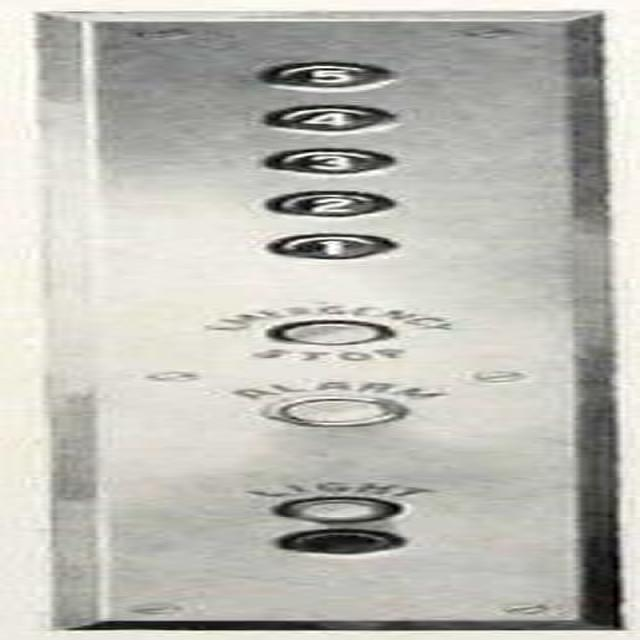1: (256, 232, 400, 260)
2: (253, 190, 404, 218)
3: (262, 146, 402, 175)
4: (249, 103, 399, 134)
5: (252, 60, 401, 93)
empty: (264, 395, 405, 427), (271, 493, 409, 524), (267, 319, 396, 346), (274, 528, 406, 554)
